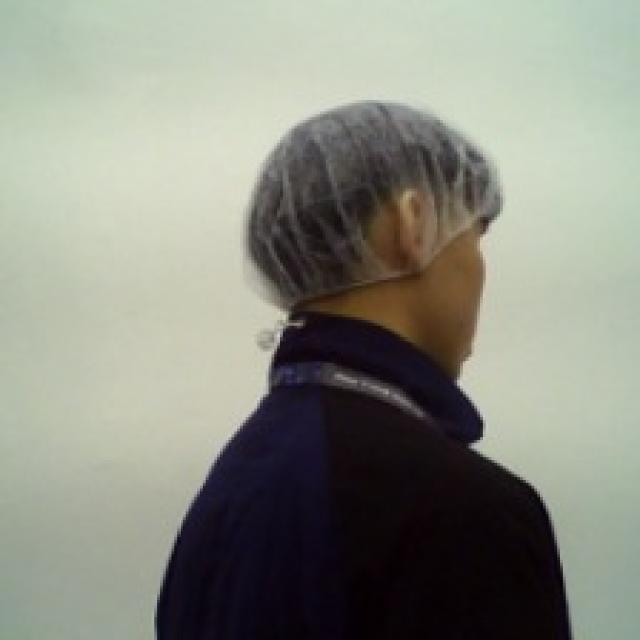gloves: (239, 96, 506, 314)
